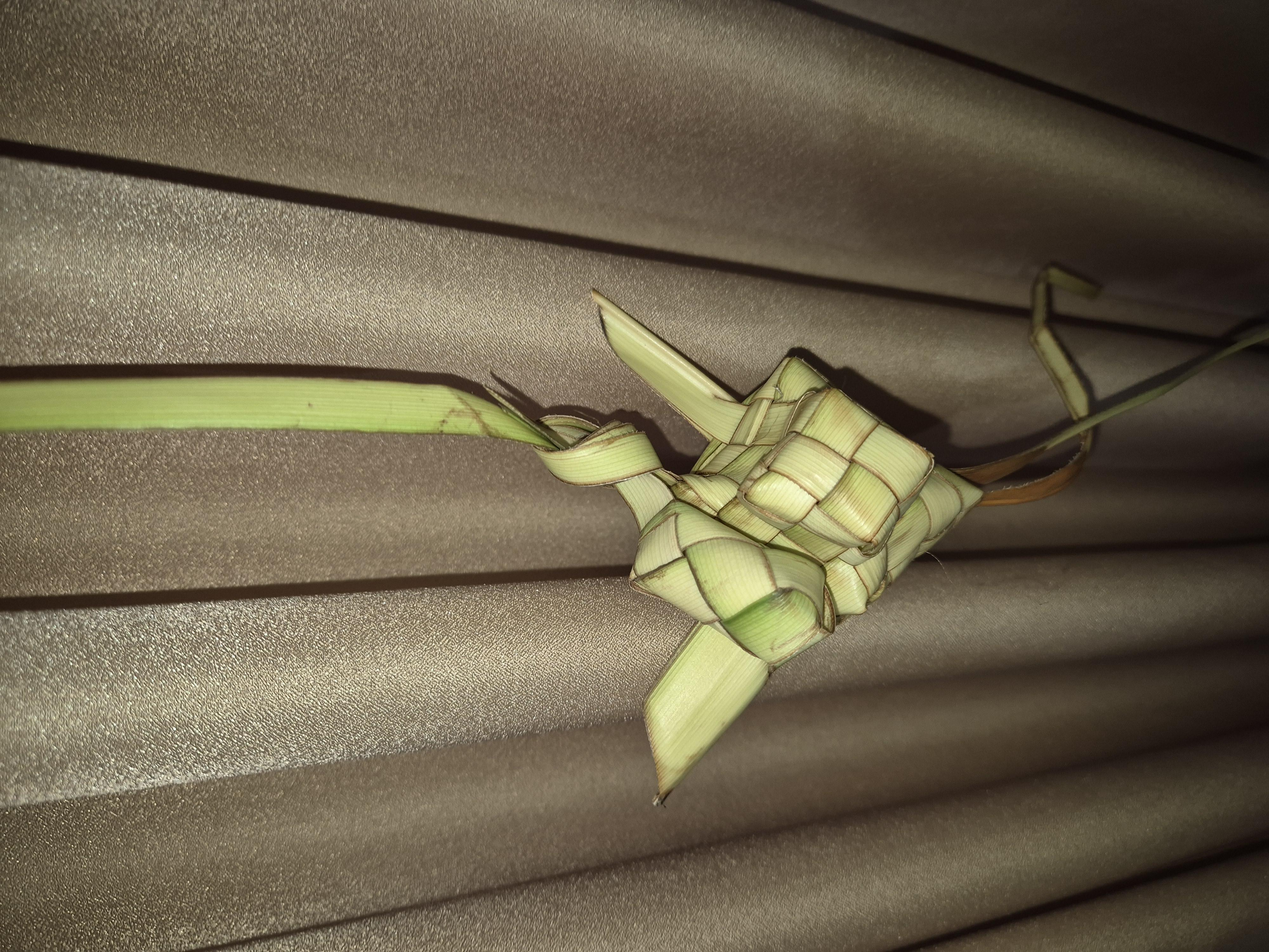Tipat Gong: (447, 504, 791, 737)
